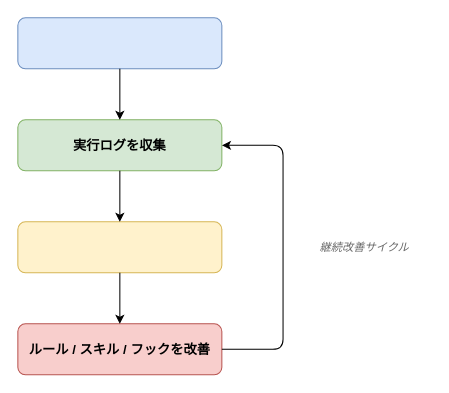
Some shapes in this 449 by 393 pixel diagram are drawn without their labels. The shapes that lost their labels are listed below. From the top down, each one's centre as x and y in pixels, then its label:
At (119,43): "評価基準を定義".
At (119,247): "基準に照らして評価".
